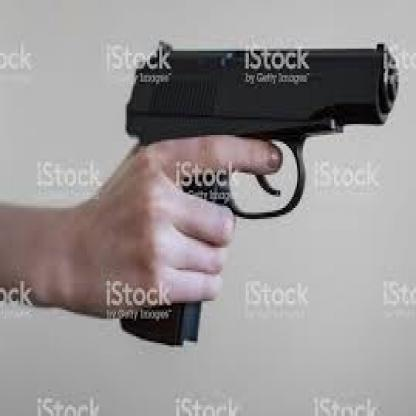Pistol: (122, 36, 398, 346)
